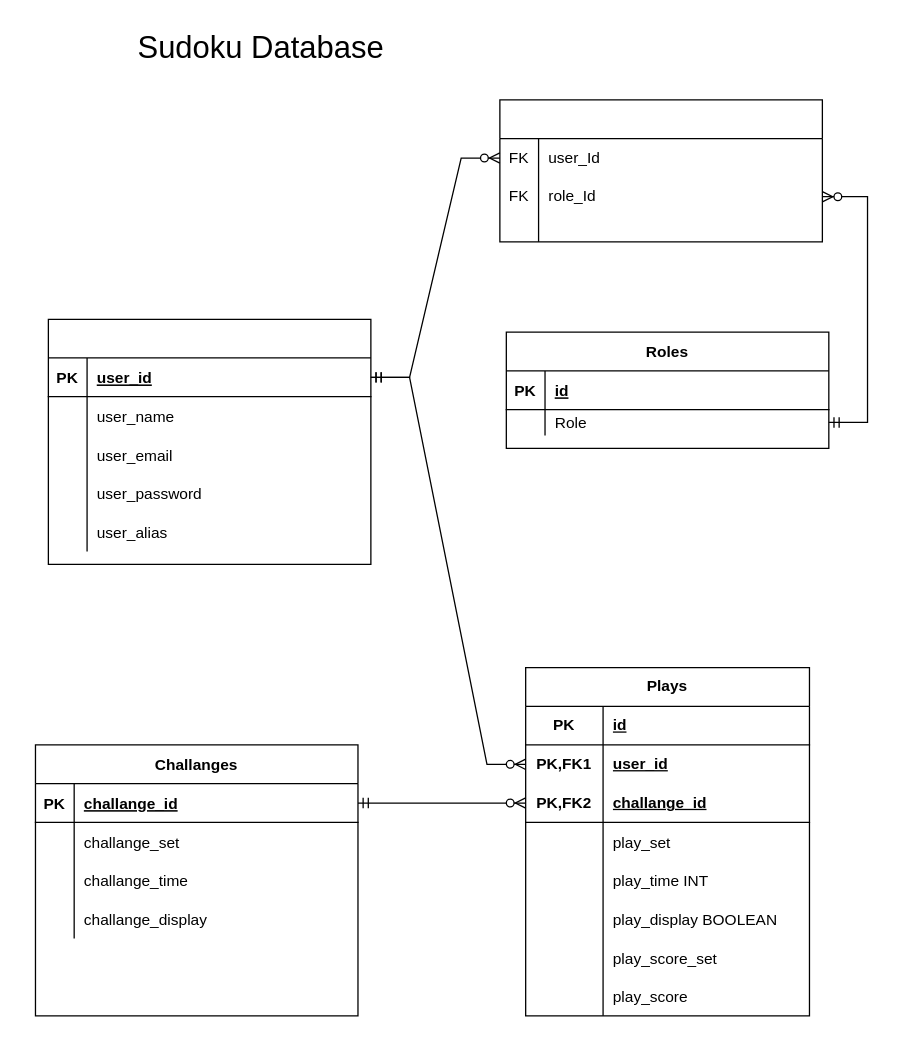
Some shapes in this 902 by 1038 pixel diagram are drawn without their labels. Each missing label, with the box of its shape:
user_role: (499, 99, 822, 242)
Users: (47, 318, 371, 564)
